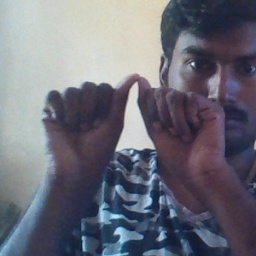A: (64, 70, 202, 172)
